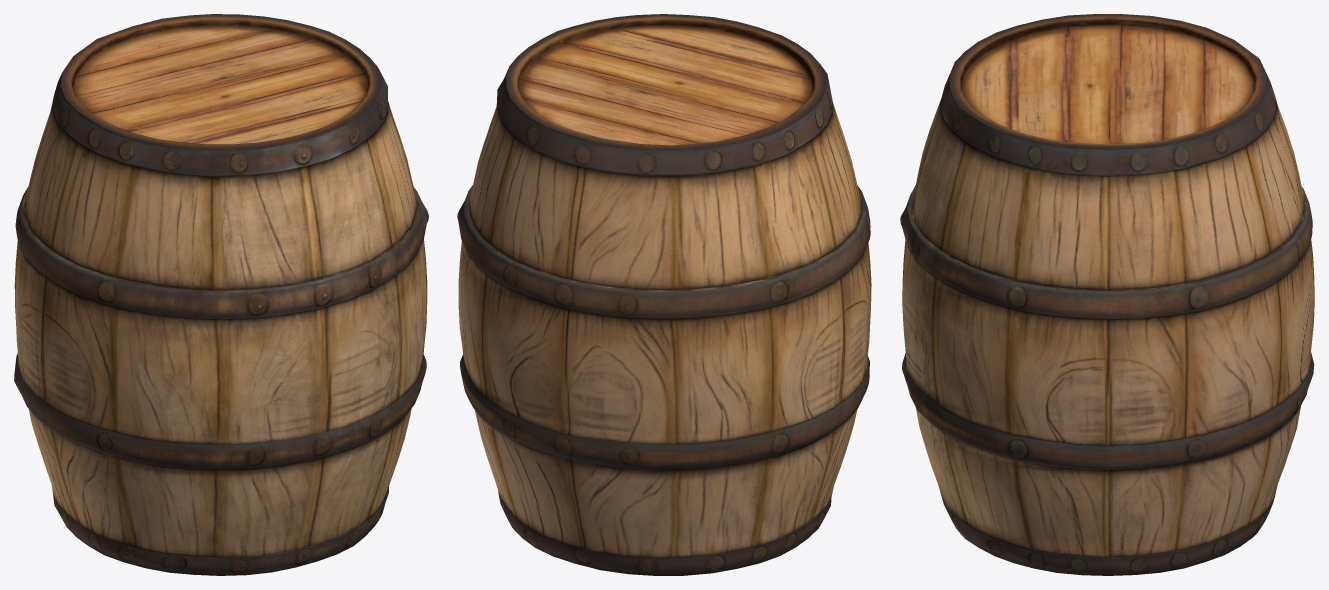
The model's file is env_barrel.glb.
3 views of the same model, side by side, from view 1: azimuth 30°, elevation 25°; view 2: azimuth 150°, elevation 25°; view 3: azimuth 270°, elevation 25° (orthographic).
Size of the model in its own units: 1.75 by 2 by 1.75.
Materials: 1 (1 with a texture image).
